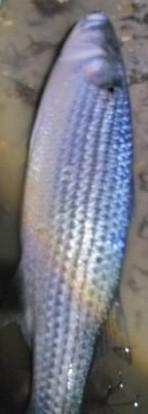fish: (20, 12, 134, 413)
